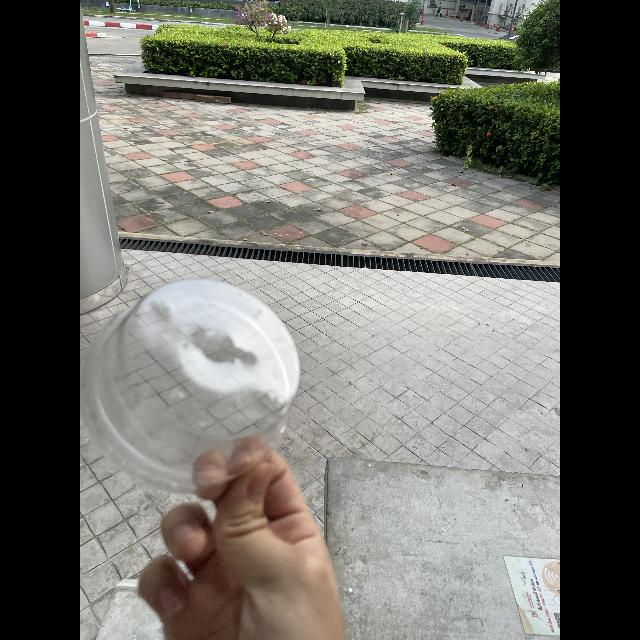plastic_cup_lid: (87, 278, 300, 496)
